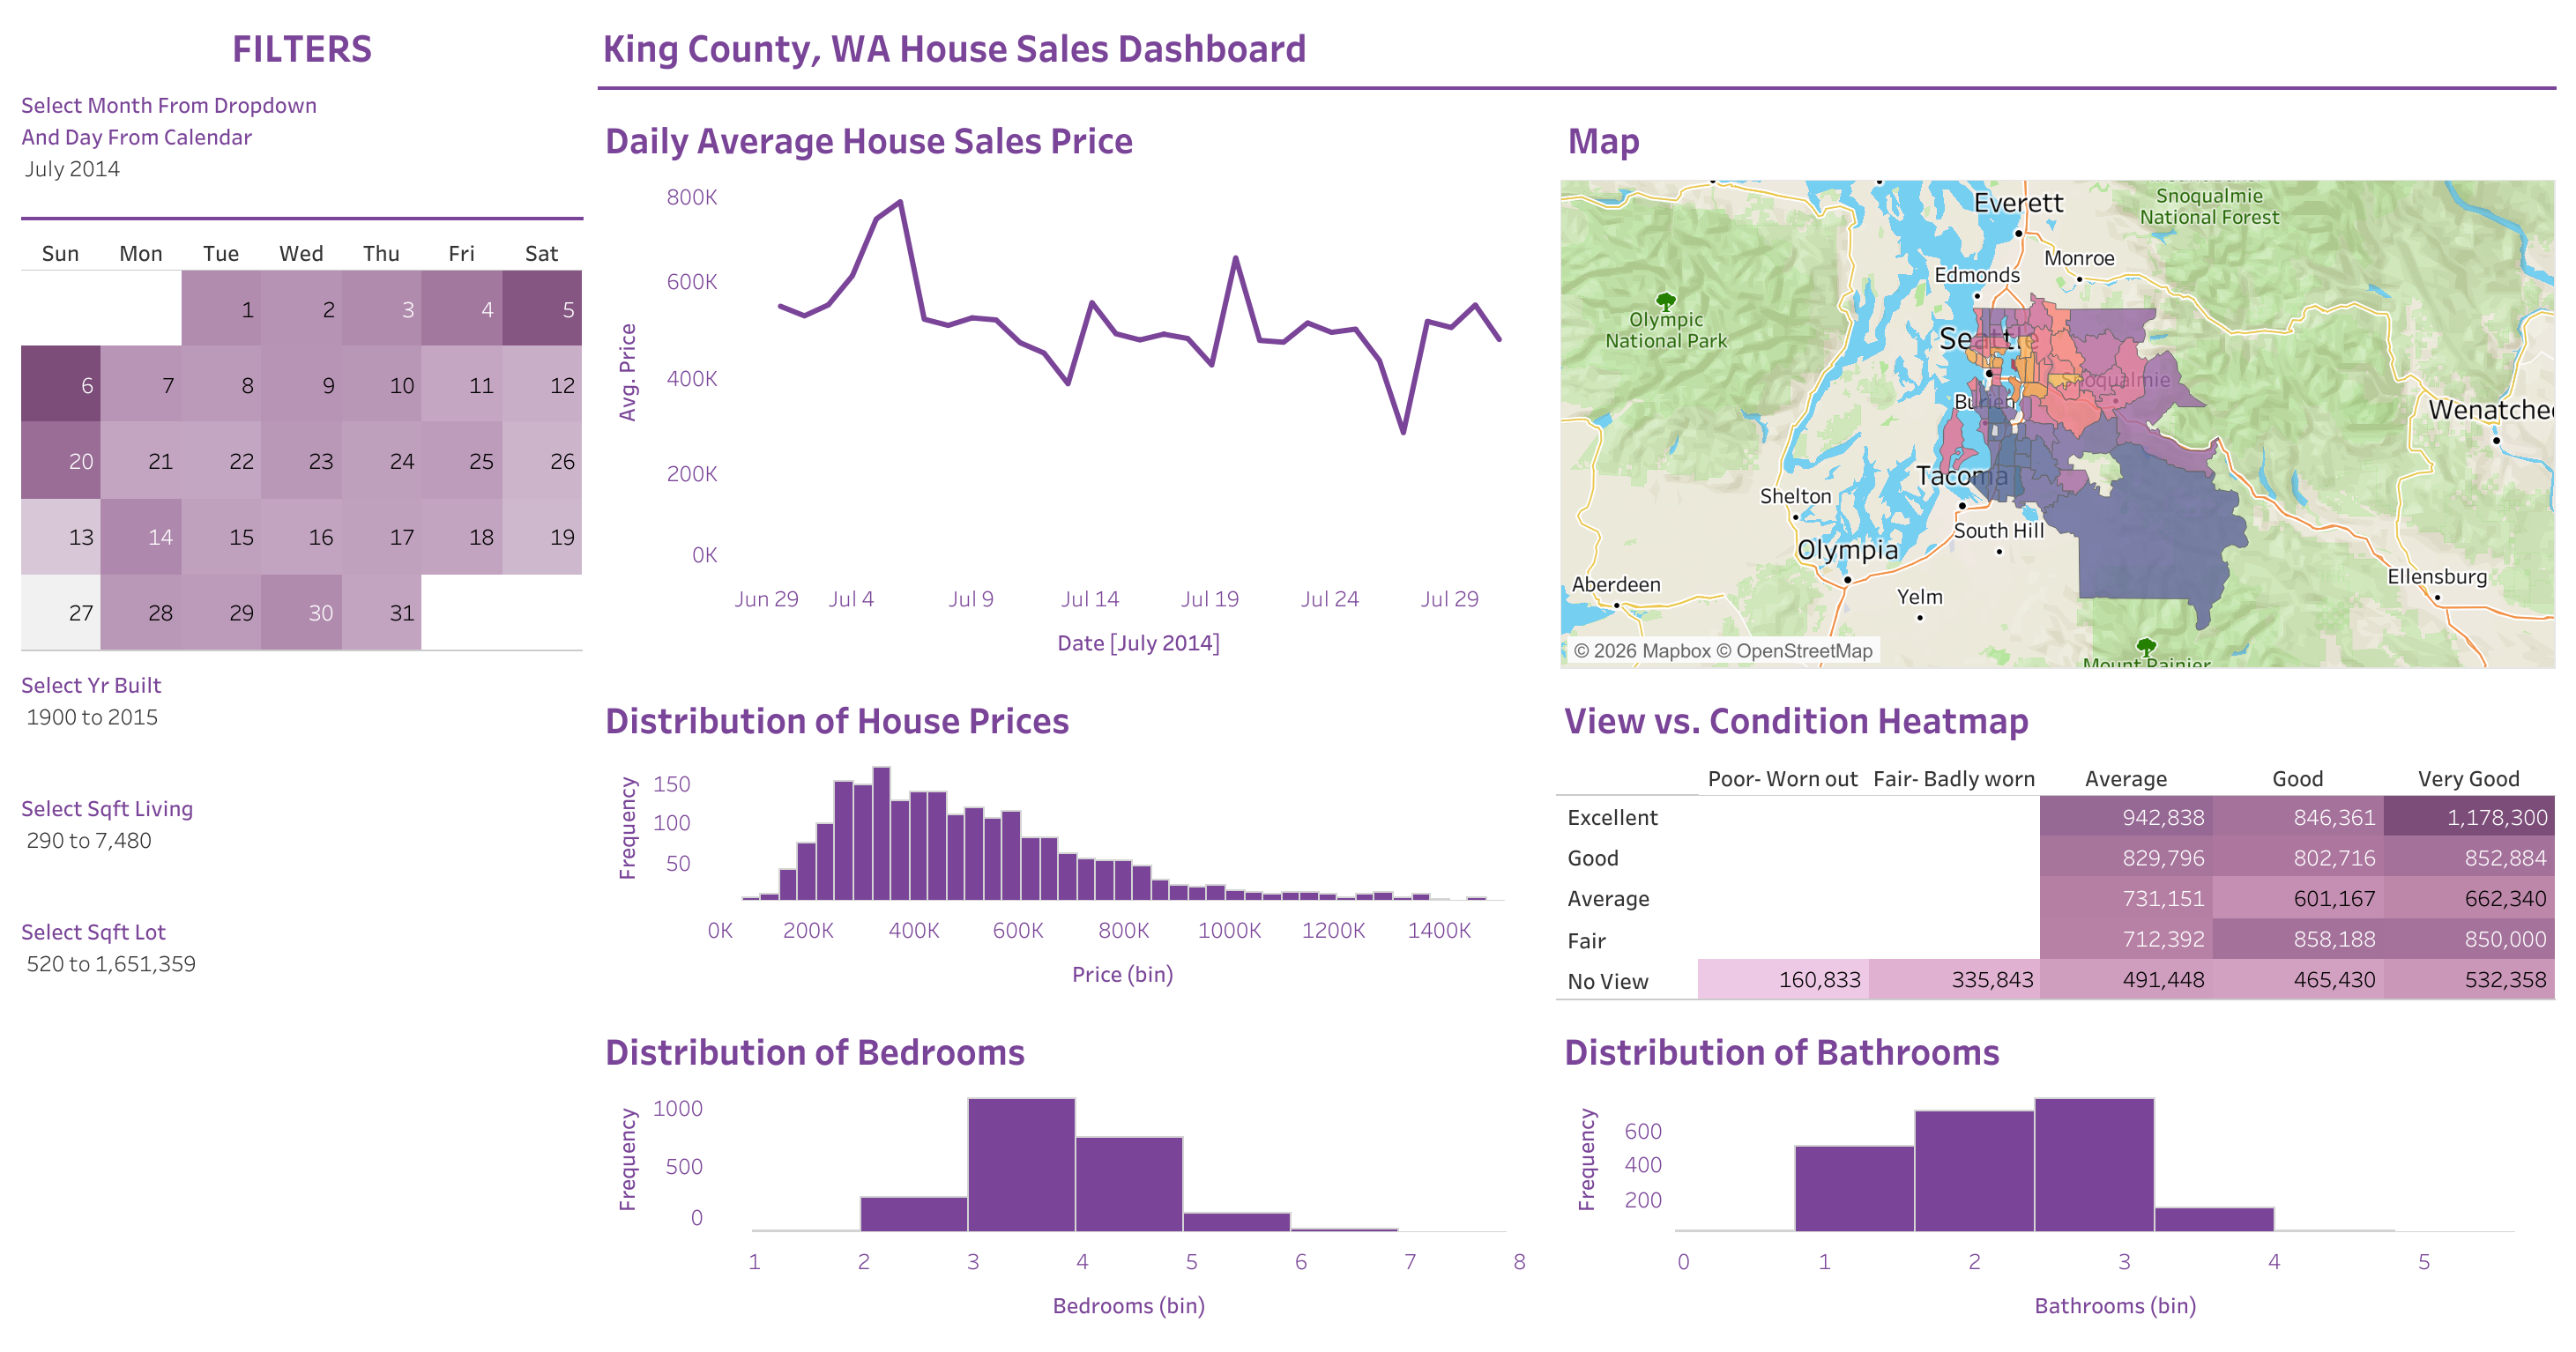

The dashboard page shown, as its layout file describes it:
{"tool":"tableau","page":{"name":"KingCountyHouseSales","canvas":[1000,1000],"units":"permille","ordinal":0},"visuals":[{"type":"text","box":[5.9,10.4,223.3,48.2]},{"type":"text","box":[229.1,10.4,765,48.2]},{"type":"filter","title":"Calendar","param":"[federated.0oacujz0rk0lqd1gxlosv1l60alo].[my:date:ok]","box":[5.9,58.6,223.3,89.9]},{"type":"blank","box":[229.1,58.6,765,13]},{"type":"worksheet","title":"LineChart","mark":"Automatic","rows":["price"],"cols":["date"],"box":[229.1,71.6,372.2,428.4]},{"type":"worksheet","title":"Map","mark":"Automatic","box":[601.4,71.6,392.8,428.4]},{"type":"blank","box":[5.9,148.5,223.3,13]},{"type":"worksheet","title":"Calendar","mark":"Square","rows":["date"],"cols":["date"],"box":[5.9,161.5,223.3,319]},{"type":"filter","title":"Calendar","param":"[federated.0oacujz0rk0lqd1gxlosv1l60alo].[none:yr_built:qk]","box":[5.9,480.5,223.3,66.4]},{"type":"worksheet","title":"HistogramHousePrice","mark":"Automatic","rows":["price"],"cols":["Price (bin)"],"box":[229.1,500,371.9,244.8]},{"type":"worksheet","title":"Heatmap","mark":"Square","rows":["view"],"cols":["condition"],"box":[601,500,393.1,244.8]},{"type":"filter","title":"Calendar","param":"[federated.0oacujz0rk0lqd1gxlosv1l60alo].[none:sqft_living:qk]","box":[5.9,546.9,223.3,66.4]},{"type":"filter","title":"Calendar","param":"[federated.0oacujz0rk0lqd1gxlosv1l60alo].[none:sqft_lot:qk]","box":[5.9,613.3,223.3,66.4]},{"type":"worksheet","title":"HistBedrooms","mark":"Automatic","rows":["bedrooms"],"cols":["Bedrooms (bin)"],"box":[229.1,744.8,371.9,244.8]},{"type":"worksheet","title":"HistBathrooms","mark":"Automatic","rows":["bathrooms"],"cols":["Bathrooms (bin)"],"box":[601,744.8,393.1,244.8]}]}

Visuals, with their boxes on the dashboard's canvas, which has no fixed pixel size, in thousandths of its width and height (x1, y1, x2, y2). These are canvas units, not pixel positions in the 2576x1352 screenshot, which may show the page scaled, cropped or inside an application window:
text: bbox(6, 10, 229, 59)
text: bbox(229, 10, 994, 59)
"Calendar" filter: bbox(6, 59, 229, 148)
blank: bbox(229, 59, 994, 72)
"LineChart" worksheet: bbox(229, 72, 601, 500)
"Map" worksheet: bbox(601, 72, 994, 500)
blank: bbox(6, 148, 229, 162)
"Calendar" worksheet (Square marks): bbox(6, 162, 229, 480)
"Calendar" filter: bbox(6, 480, 229, 547)
"HistogramHousePrice" worksheet: bbox(229, 500, 601, 745)
"Heatmap" worksheet (Square marks): bbox(601, 500, 994, 745)
"Calendar" filter: bbox(6, 547, 229, 613)
"Calendar" filter: bbox(6, 613, 229, 680)
"HistBedrooms" worksheet: bbox(229, 745, 601, 990)
"HistBathrooms" worksheet: bbox(601, 745, 994, 990)
